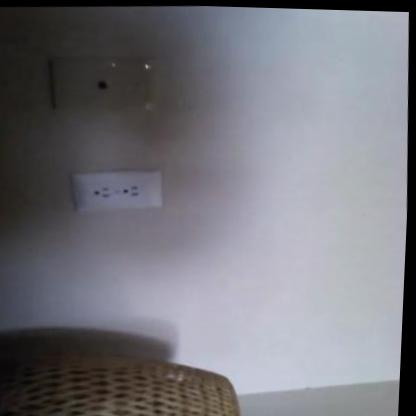OUTLET: (72, 168, 163, 214)
